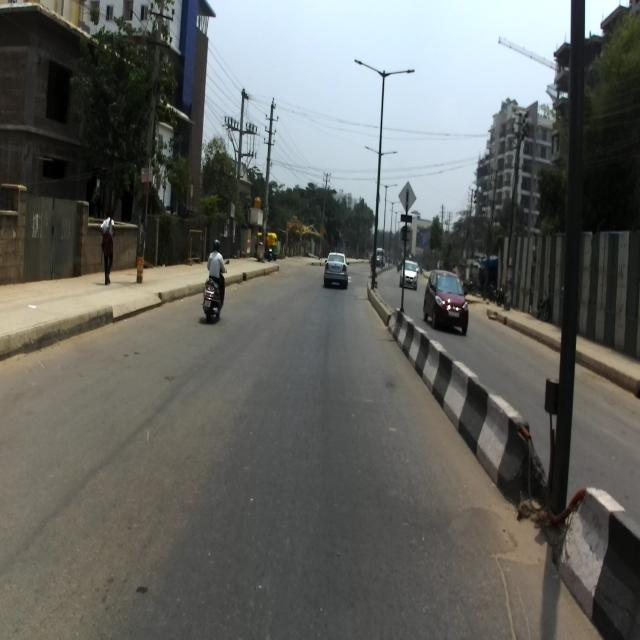motorcycle ahead at: (198, 268, 232, 326)
person ahead at: (94, 202, 118, 285)
